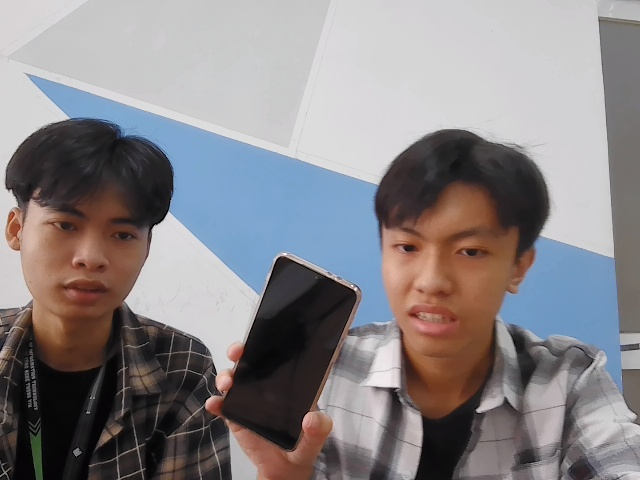human: (375, 130, 549, 346), (3, 117, 180, 320)
phone: (222, 242, 363, 438)
